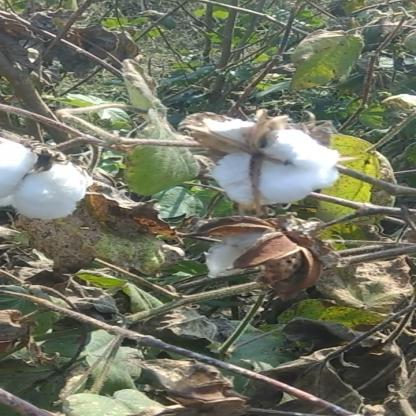cotton_ready: (183, 112, 357, 214)
